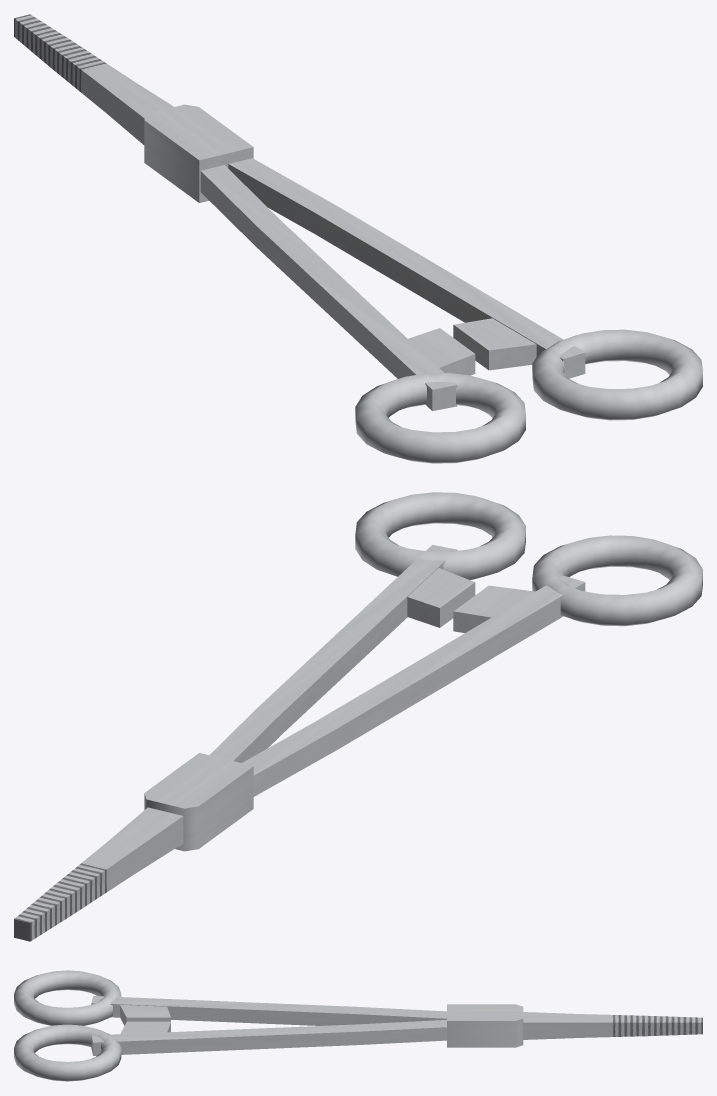
File: kelly_clamp.glb
The picture shows the model from 3 angles, top to bottom: view 1: azimuth 30°, elevation 25°; view 2: azimuth 150°, elevation 25°; view 3: azimuth 270°, elevation 25°; orthographic projection. The views are drawn at different scales.
Parts seen in each view (by area): view 1: s6_kelly_clamp; view 2: s6_kelly_clamp; view 3: s6_kelly_clamp.
Part boxes in pixels (left/top/right/bottom): s6_kelly_clamp: left=14, top=14, right=702, bottom=463; s6_kelly_clamp: left=14, top=492, right=702, bottom=941; s6_kelly_clamp: left=14, top=970, right=702, bottom=1081.
Bounding box in the file's own units: 0.0478 × 0.006 × 0.1399.
1 material, 1 textured.
